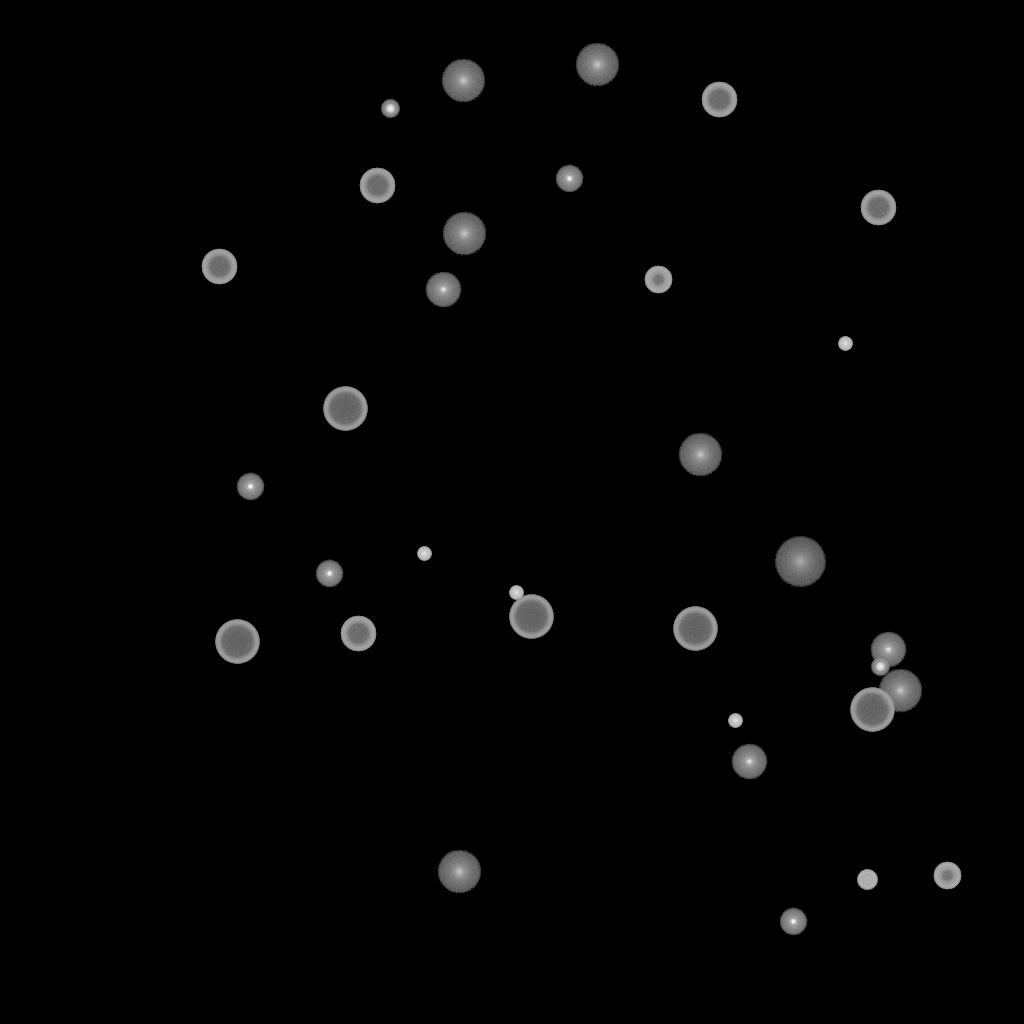depth:-10: (236, 473, 264, 501), (315, 560, 343, 588), (555, 165, 583, 193), (779, 908, 807, 936)
depth:-20: (871, 658, 889, 676), (381, 100, 399, 118)
depth:-30: (728, 714, 742, 728), (509, 586, 523, 600), (838, 337, 852, 351), (417, 547, 431, 561)
depth:-40: (857, 870, 877, 890)
depth:-50: (933, 862, 961, 890), (644, 266, 672, 294)
depth:-60: (340, 616, 376, 652), (860, 190, 896, 226), (201, 249, 237, 285), (701, 82, 737, 118), (359, 168, 395, 204)
depth:-70: (509, 595, 553, 639), (850, 688, 894, 732), (215, 620, 259, 664), (323, 387, 367, 431), (673, 607, 717, 651)
depth:0: (870, 632, 906, 668), (731, 744, 767, 780), (425, 272, 461, 308)
depth:10: (678, 433, 722, 477), (437, 850, 481, 894), (442, 212, 486, 256), (575, 43, 619, 87), (878, 669, 922, 713), (441, 59, 485, 103)
depth:20: (774, 537, 826, 587)
